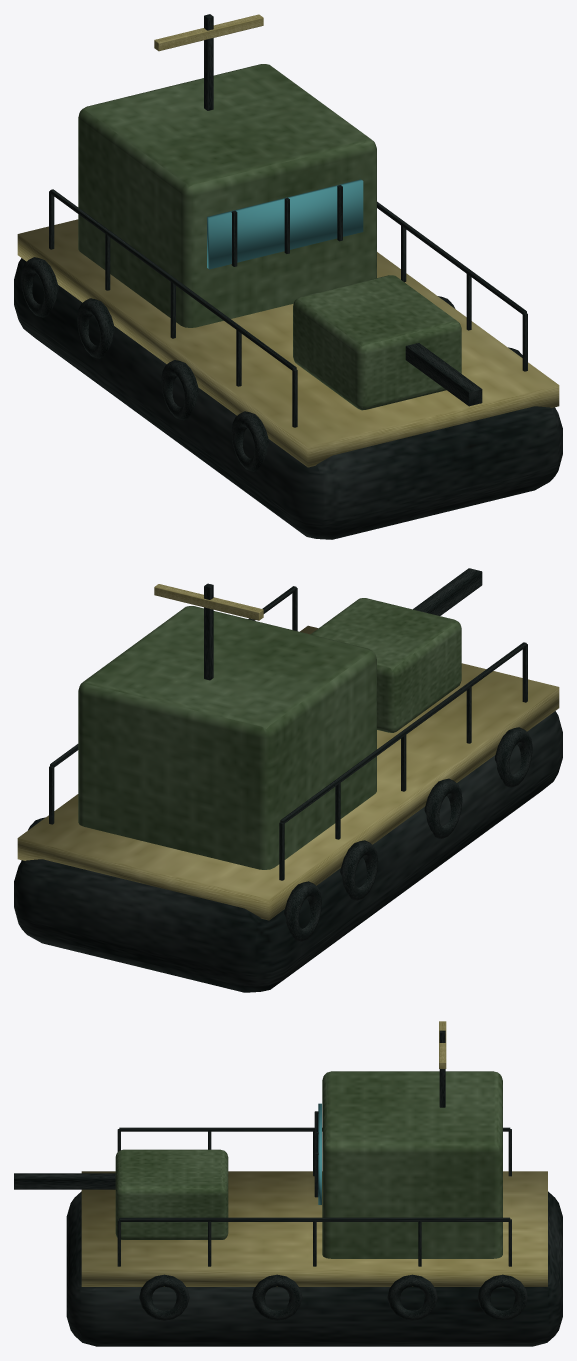
The model's file is barge.glb.
The picture shows the model from 3 angles, top to bottom: view 1: azimuth 30°, elevation 25°; view 2: azimuth 150°, elevation 25°; view 3: azimuth 270°, elevation 25°; orthographic projection. The views are drawn at different scales.
Visible parts, largest first — view 1: Cabin, Barge hull, Deck, Barge turret, Cabin window, Barge gun, Deck handrail, Rubber fender.003, Rubber fender.001, Rubber fender, Rubber fender.002, Radar (+2 smaller); view 2: Cabin, Barge hull, Deck, Barge turret, Deck handrail, Rubber fender.002, Rubber fender.001, Rubber fender, Rubber fender.003, Barge gun, Radar, Mast; view 3: Cabin, Barge hull, Deck, Barge turret, Deck handrail.001, Barge gun, Rubber fender.004, Rubber fender.005, Rubber fender.006, Rubber fender.007, Deck handrail.
Part boxes in pixels (box(x1,y1,x2,y2)): Cabin: box(78, 64, 376, 327); Barge hull: box(14, 258, 562, 539); Deck: box(17, 219, 559, 467); Barge turret: box(293, 275, 461, 410); Cabin window: box(207, 179, 363, 269); Barge gun: box(405, 343, 482, 406); Deck handrail: box(50, 189, 296, 370); Rubber fender.003: box(21, 257, 58, 317); Rubber fender.001: box(161, 360, 199, 420); Rubber fender: box(231, 411, 269, 471); Rubber fender.002: box(77, 298, 114, 358); Radar: box(154, 14, 263, 51); Cabin: box(78, 606, 376, 869); Barge hull: box(14, 711, 562, 992); Deck: box(17, 625, 559, 920); Barge turret: box(310, 598, 461, 732); Deck handrail: box(280, 642, 526, 823); Rubber fender.002: box(340, 840, 378, 900); Rubber fender.001: box(424, 778, 462, 839); Rubber fender: box(495, 727, 532, 787); Rubber fender.003: box(284, 881, 321, 941); Barge gun: box(413, 568, 482, 615); Radar: box(154, 584, 263, 620); Mast: box(204, 583, 213, 680); Cabin: box(322, 1071, 502, 1258); Barge hull: box(66, 1191, 562, 1346); Deck: box(81, 1171, 547, 1286); Barge turret: box(115, 1149, 228, 1239); Deck handrail.001: box(119, 1217, 510, 1221); Barge gun: box(14, 1173, 115, 1189); Rubber fender.004: box(139, 1274, 189, 1320); Rubber fender.005: box(252, 1274, 302, 1320); Rubber fender.006: box(387, 1274, 437, 1320); Rubber fender.007: box(477, 1274, 527, 1320); Deck handrail: box(119, 1127, 510, 1131).
Bounding box in the file's own units: 3.41 × 4 × 7.3.
4 materials, 3 textured.
